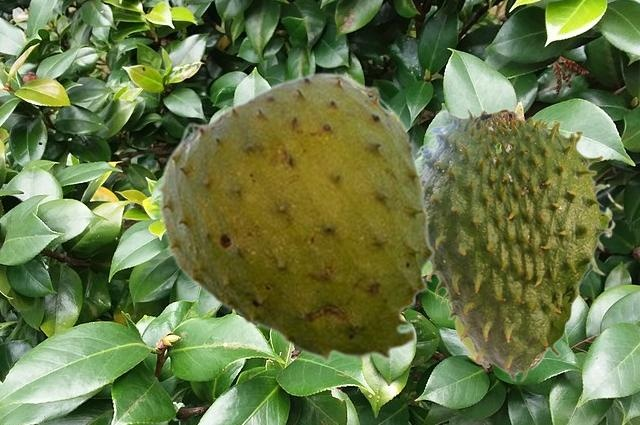guyabano: (153, 71, 435, 366), (415, 107, 623, 381)
